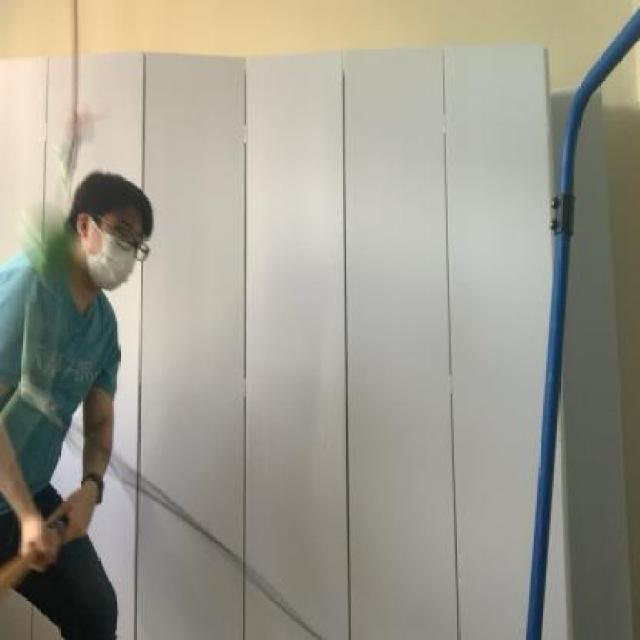baseball: (15, 190, 79, 302)
